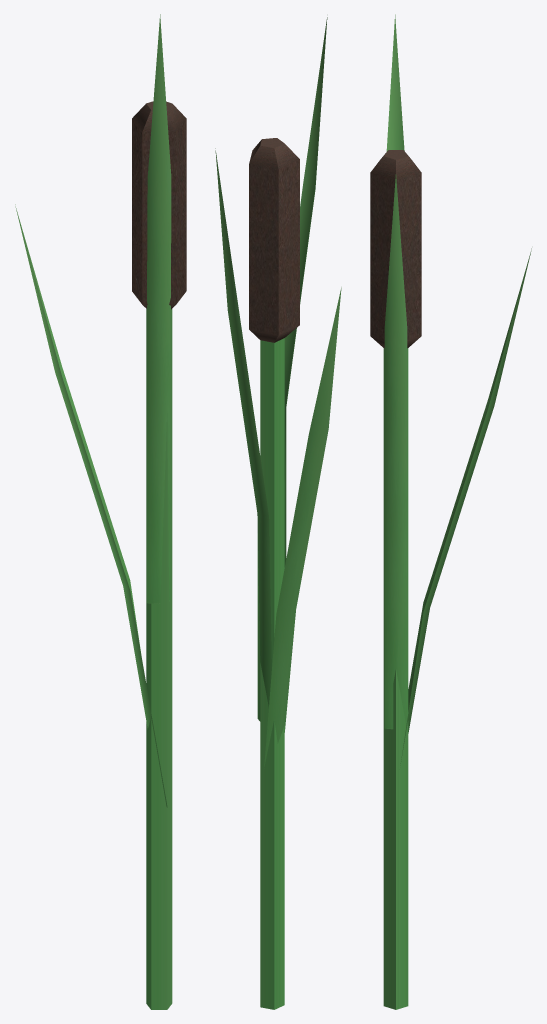
Rendered from palka.obj.
3 views of the same model, side by side, from view 1: azimuth 90°, elevation 25°; view 2: azimuth 210°, elevation 25°; view 3: azimuth 270°, elevation 25° (orthographic). The views are drawn at different scales.
Bounding box in the file's own units: 0.4746 × 3.93 × 0.6007.
2 materials, 2 textured.
